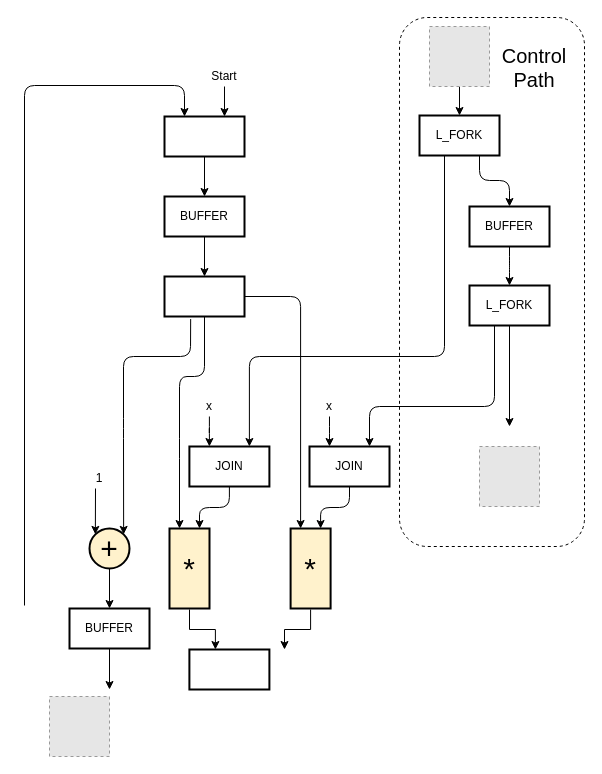
This 602x774 diagram has some shape labels left out. Grey dashed boxes stand in for pictures. Here are the shapes that lost their labels. From the top down, the centre of each, then its label:
[204,136]: MERGE
[204,296]: FORK
[229,669]: STORE
